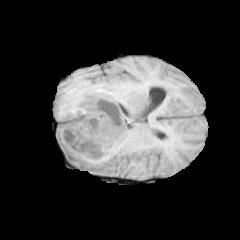glioma: (57, 78, 145, 171)
